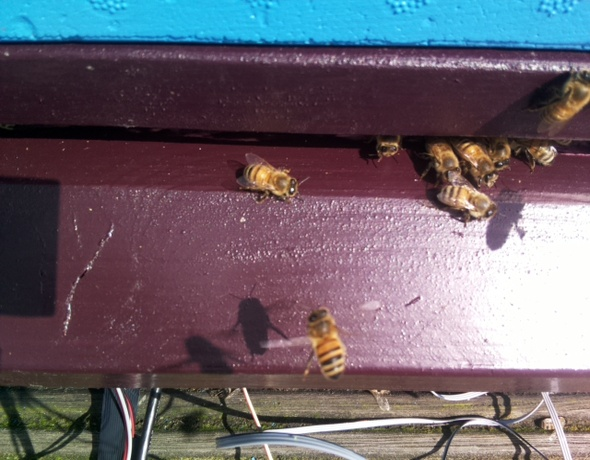no_pollen: (537, 66, 590, 131), (304, 305, 347, 382), (435, 176, 500, 226), (239, 160, 300, 203), (454, 137, 501, 189), (423, 136, 464, 184), (511, 134, 558, 170), (484, 134, 513, 174), (372, 131, 402, 164)
